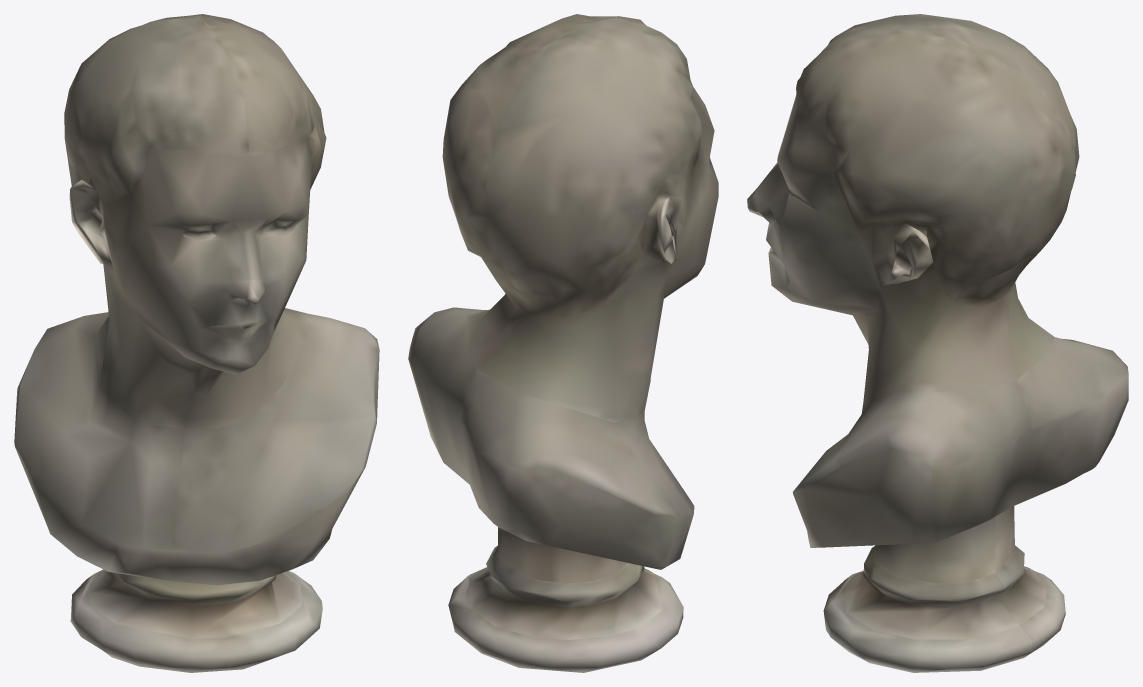
File: design-marble-bust-01.glb
3 views of the same model, side by side, from view 1: azimuth 30°, elevation 25°; view 2: azimuth 150°, elevation 25°; view 3: azimuth 270°, elevation 25° (orthographic). The views are drawn at different scales.
Visible parts, largest first — view 1: marble_bust_01; view 2: marble_bust_01; view 3: marble_bust_01.
Part boxes in pixels (left/top/right/bottom): marble_bust_01: left=14, top=14, right=379, bottom=672; marble_bust_01: left=408, top=14, right=718, bottom=672; marble_bust_01: left=747, top=14, right=1128, bottom=672.
Size of the model in its own units: 0.2718 by 0.5131 by 0.298.
Materials: 1 (1 with a texture image).
